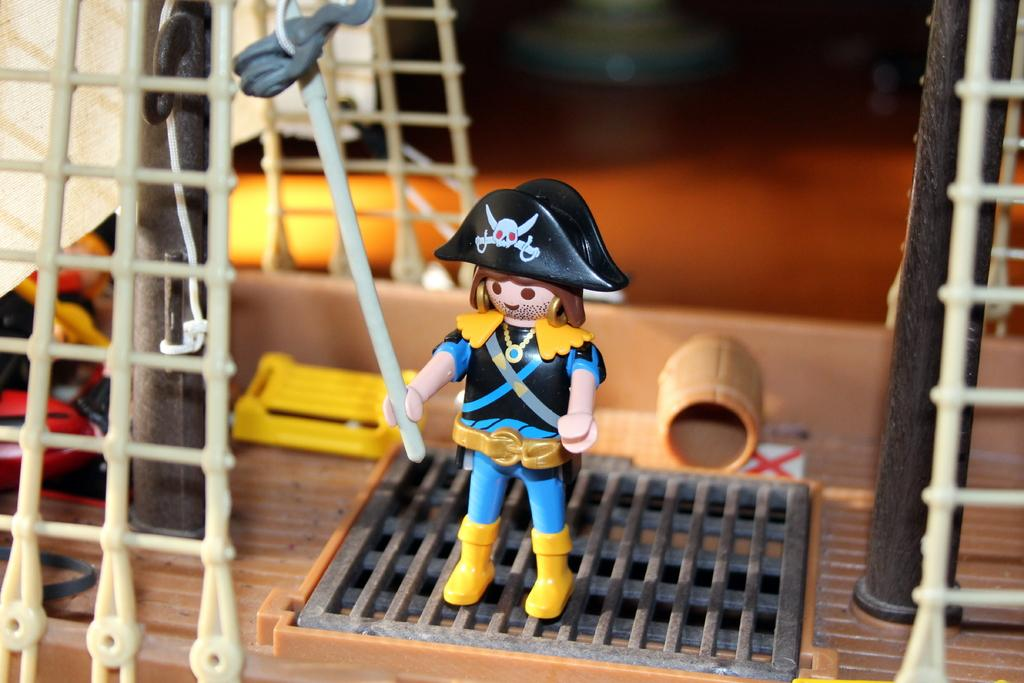Hat: (434, 181, 626, 315)
